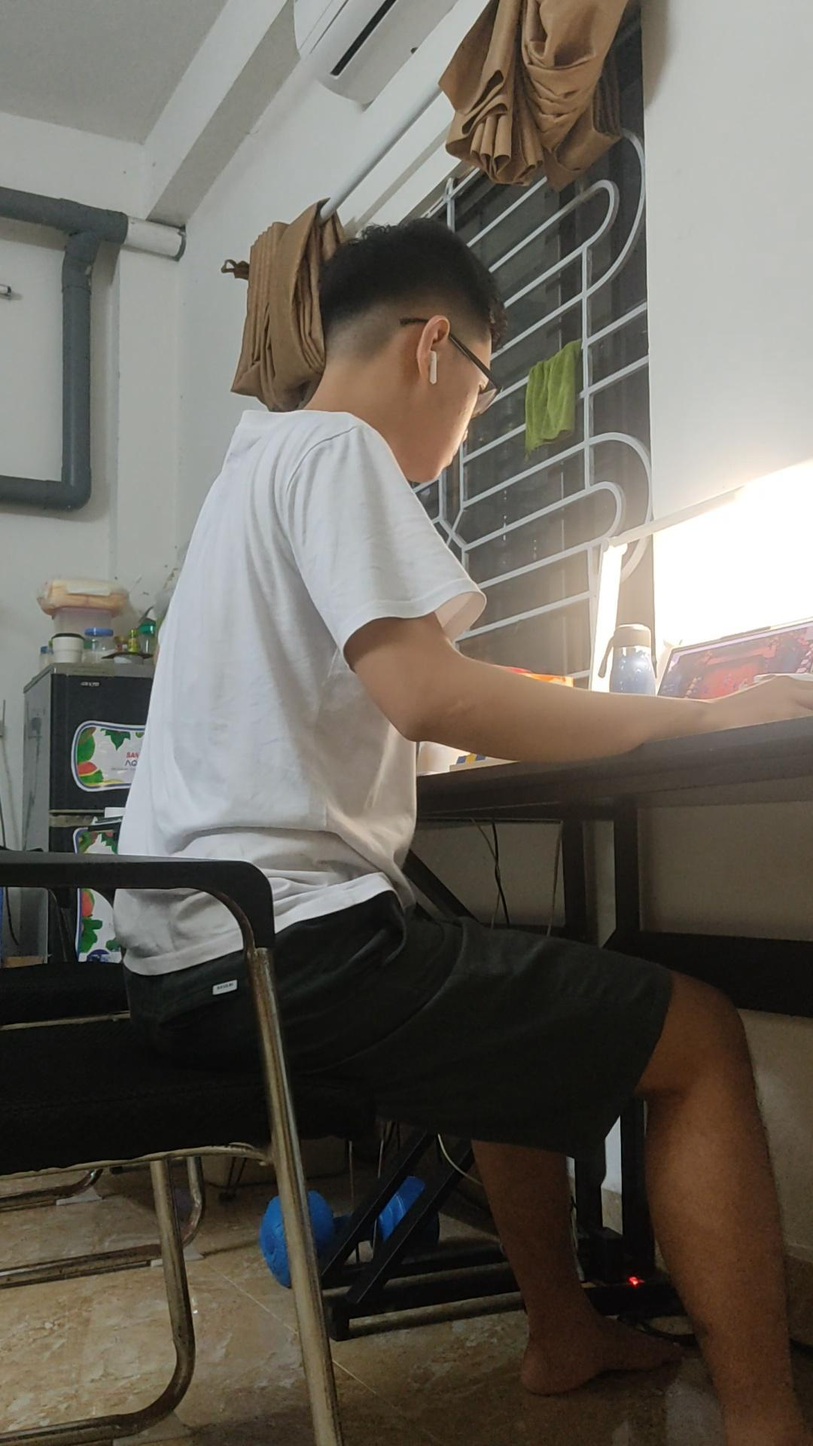GoodPosture: (121, 221, 812, 1445)
